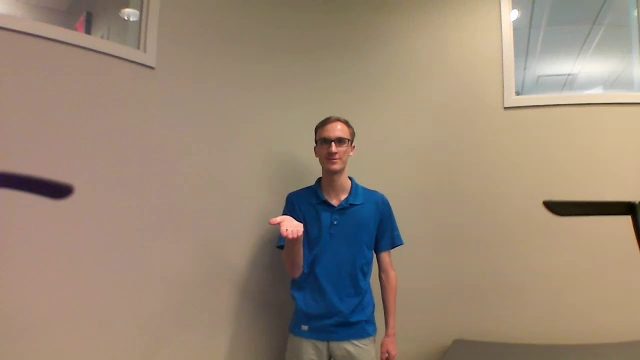land: (264, 208, 311, 242)
